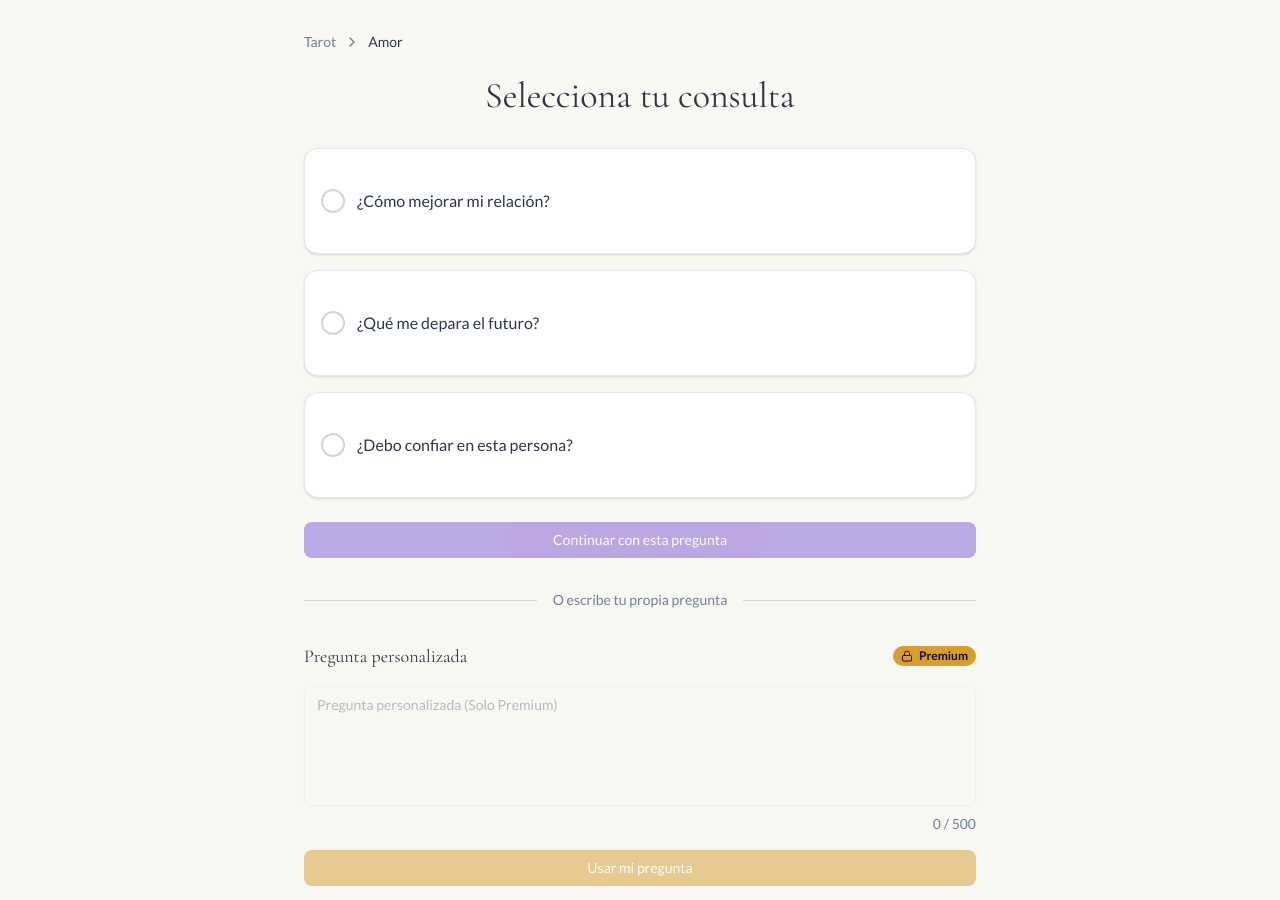
Test case: QuestionSelector › Premium Upsell Flow › should open UpgradeModal when clicking disabled textarea wrapper
# Find the wrapper div and click it
Click the button with test id "custom-question-wrapper". click: (640, 760)
box: [304, 686, 976, 834]
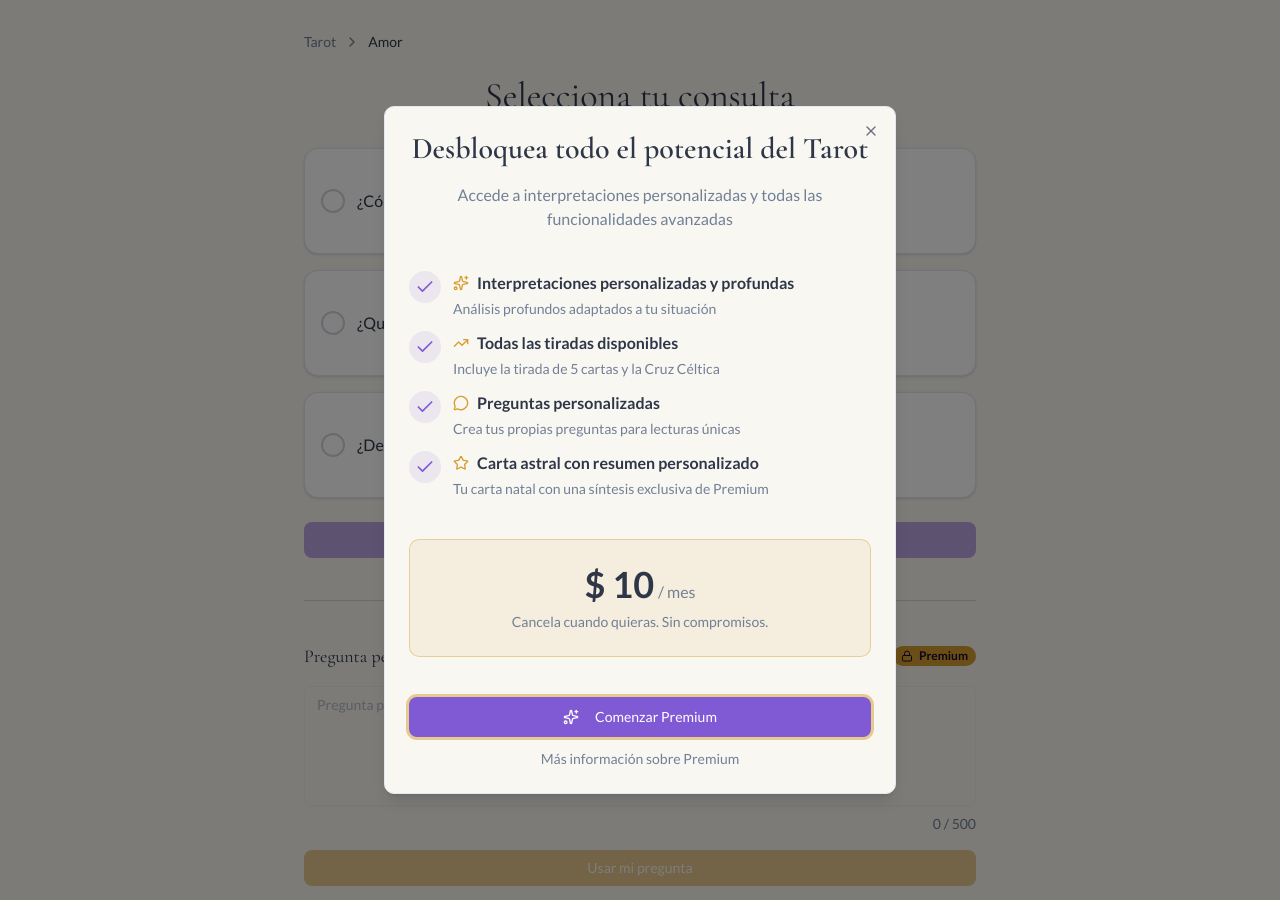
Expected: the dialog is shown, [384, 106, 896, 794]
Expected: the heading "Desbloquea todo el potencial del Tarot" is shown, [409, 131, 871, 167]
